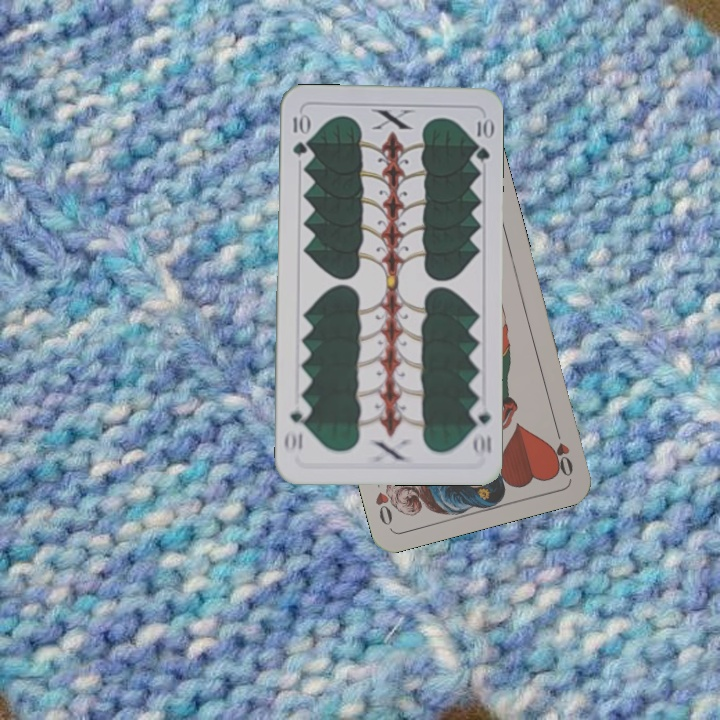G10: (467, 400, 494, 459), (289, 109, 309, 159)
HO: (547, 421, 576, 479)
